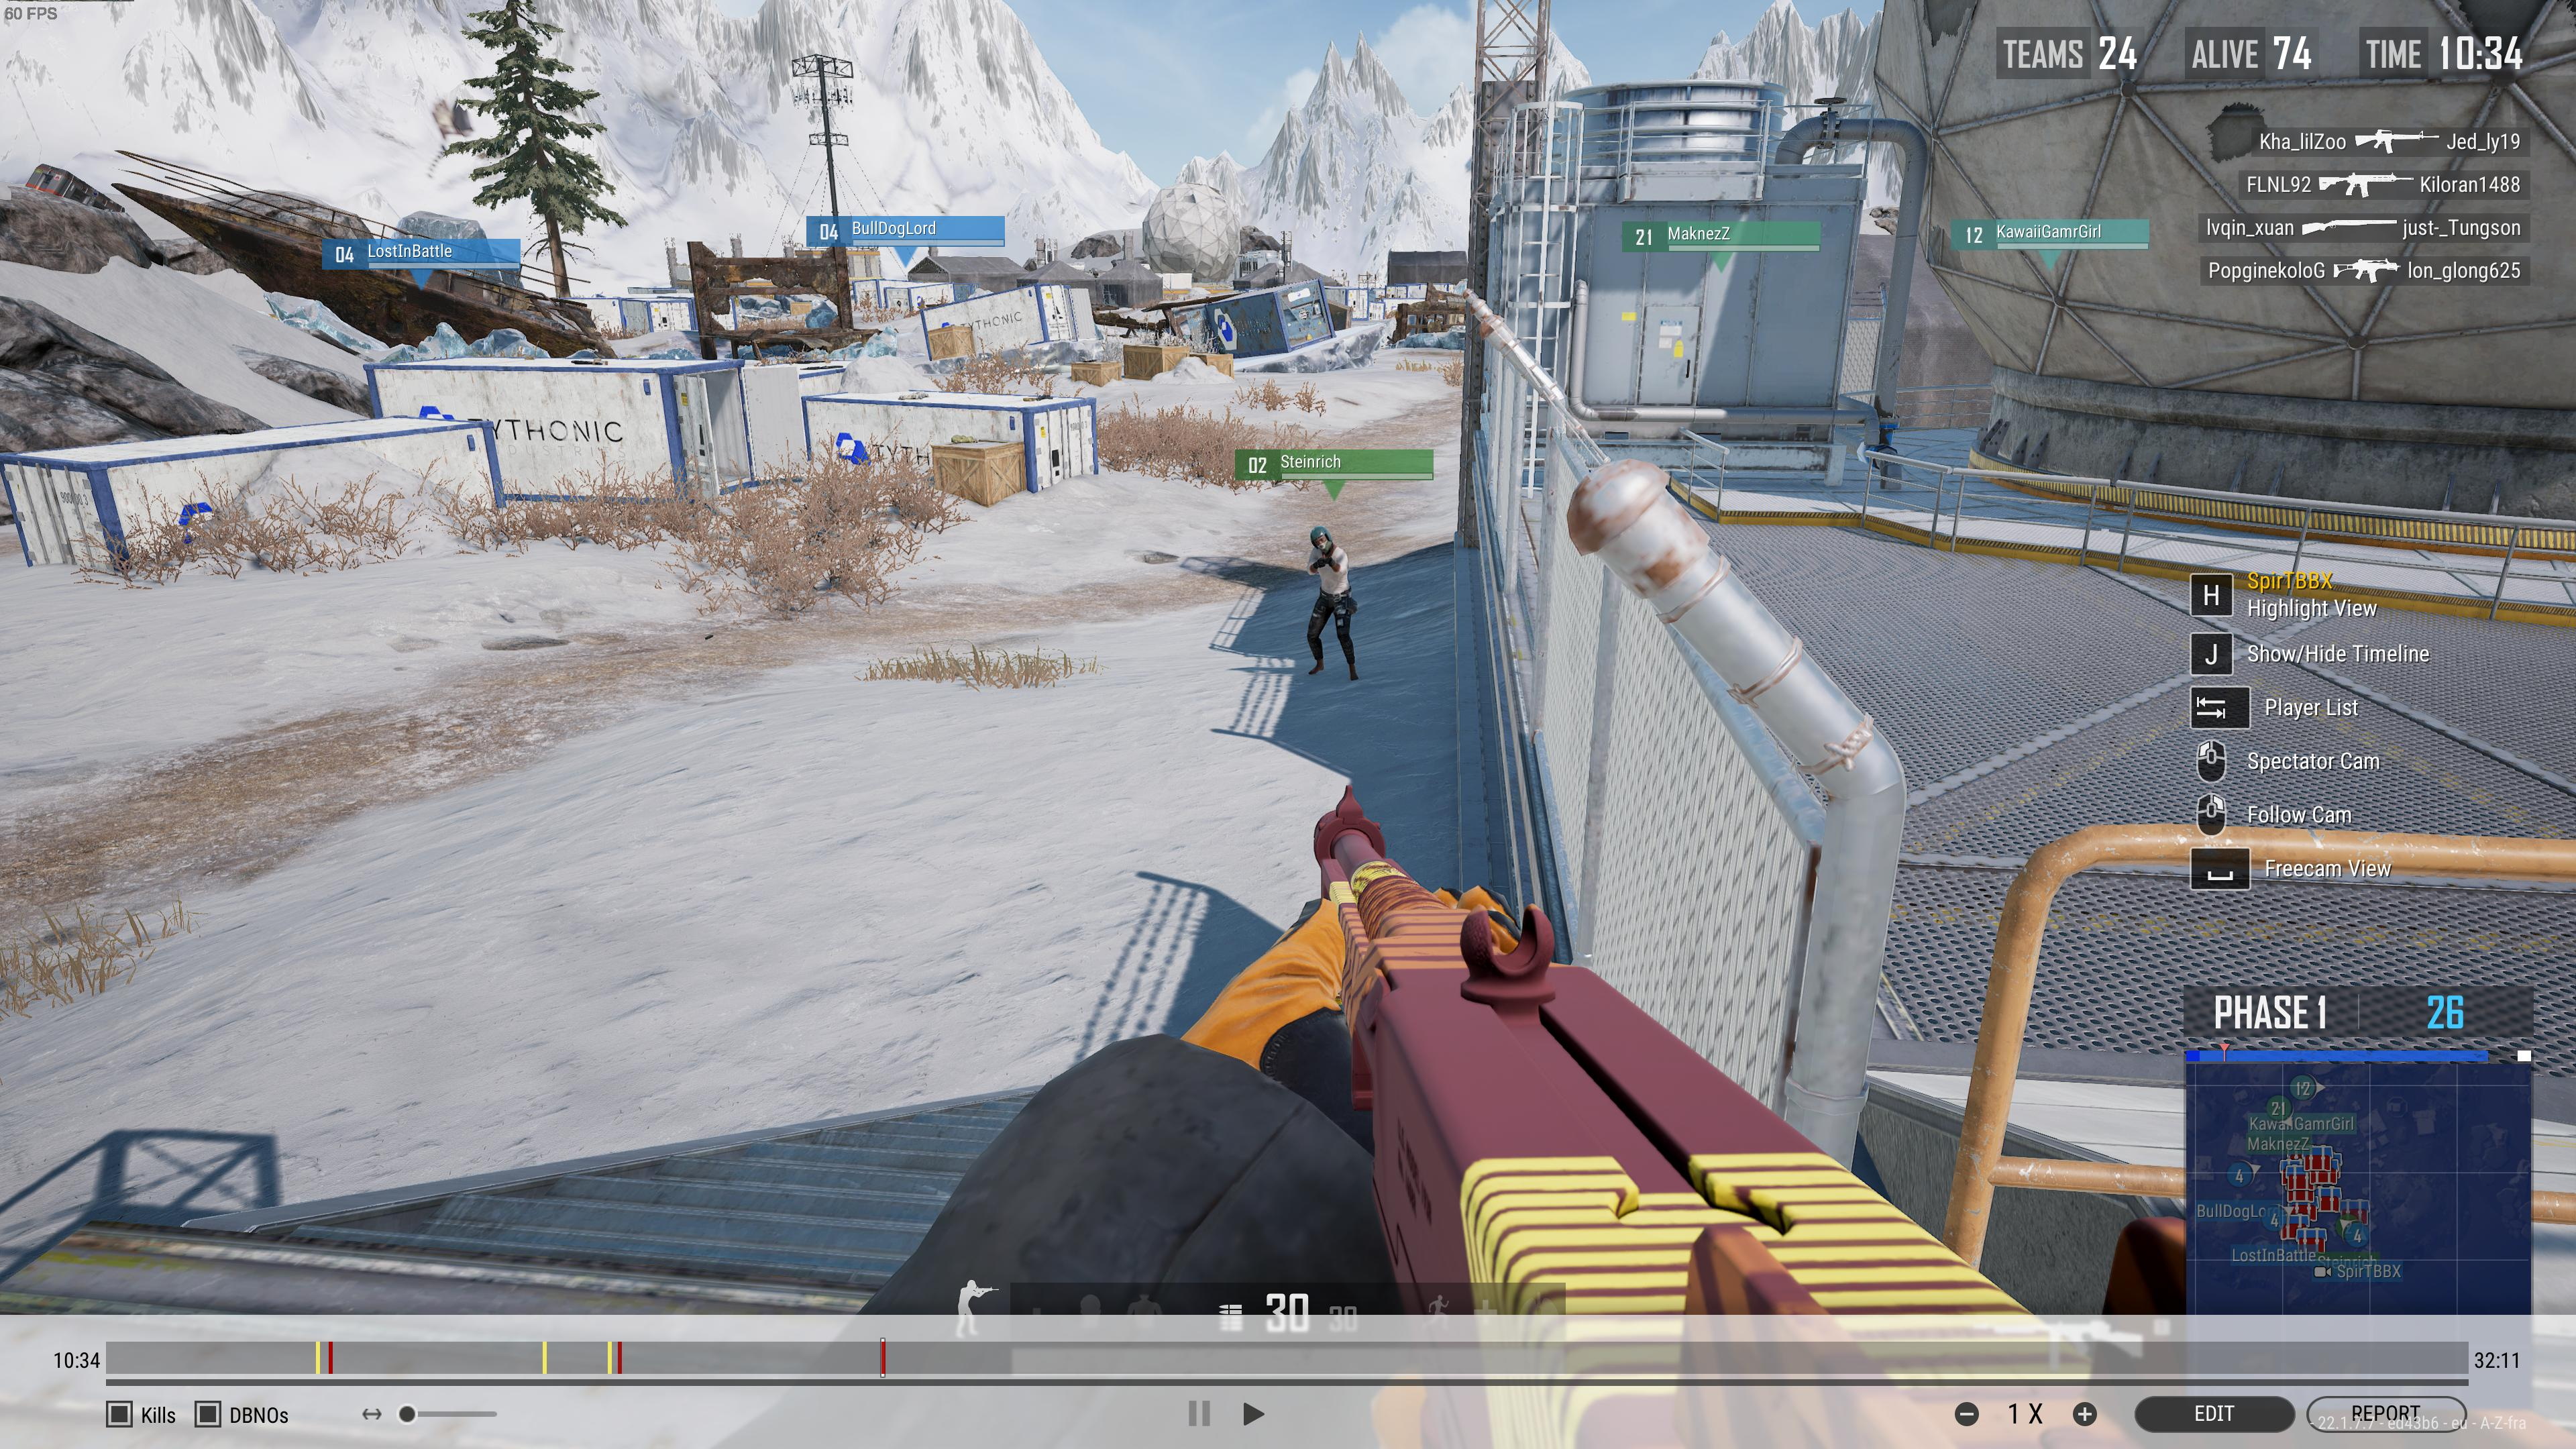enemy: (1307, 525, 1359, 679)
enemy_head: (1309, 525, 1332, 552)
